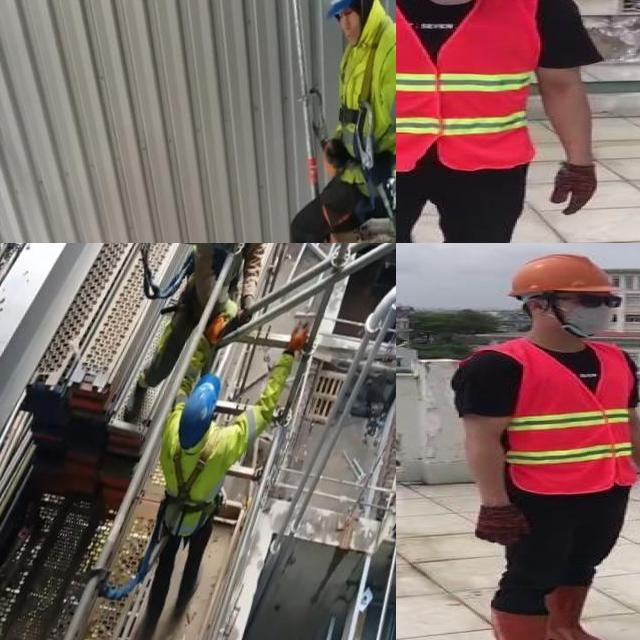Harness: (354, 27, 384, 202), (165, 445, 217, 536)
boots: (542, 584, 613, 640), (489, 606, 588, 640)
face_mask: (554, 288, 625, 338)
glasses: (563, 290, 625, 312)
hand_glove: (552, 163, 598, 218), (473, 505, 530, 545)
head_helmet: (504, 252, 624, 296)
person: (440, 249, 640, 640), (396, 0, 615, 243)
vest: (396, 0, 538, 171), (507, 343, 637, 492)
